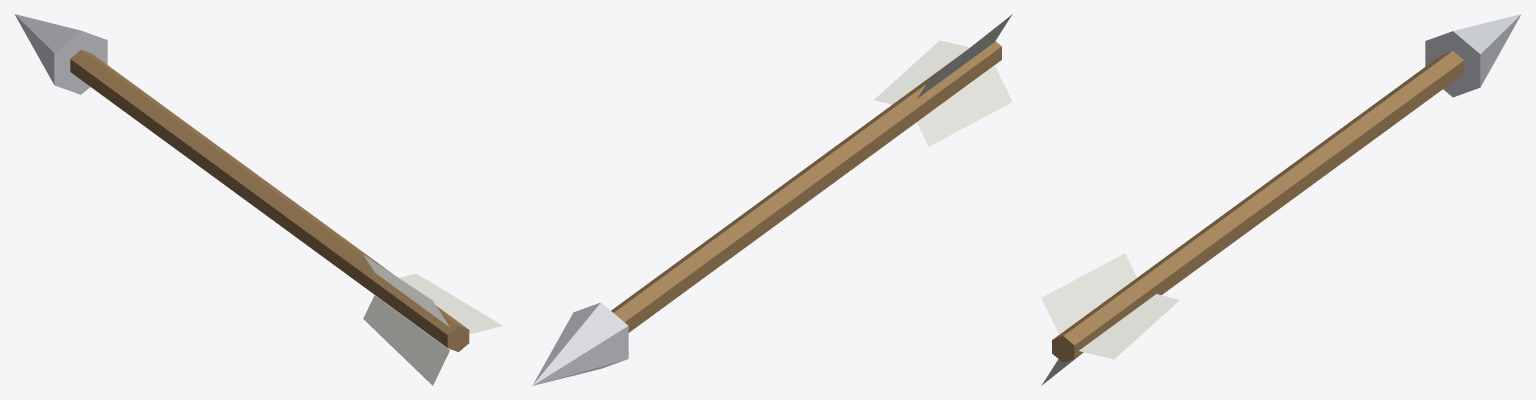
The model's file is munition_carreau.glb.
3 views of the same model, side by side, from view 1: azimuth 30°, elevation 25°; view 2: azimuth 150°, elevation 25°; view 3: azimuth 330°, elevation 25° (orthographic). The views are drawn at different scales.
Visible parts, largest first — view 1: carreau_hampe, carreau_plumes, carreau_pointe; view 2: carreau_hampe, carreau_plumes, carreau_pointe; view 3: carreau_hampe, carreau_plumes, carreau_pointe.
Part boxes in pixels (x1,y1,x2,y2): carreau_hampe: [70, 50, 469, 351]; carreau_plumes: [363, 254, 502, 385]; carreau_pointe: [14, 14, 107, 94]; carreau_hampe: [611, 41, 1001, 332]; carreau_plumes: [874, 14, 1012, 146]; carreau_pointe: [532, 302, 628, 385]; carreau_hampe: [1052, 51, 1463, 362]; carreau_plumes: [1041, 253, 1179, 385]; carreau_pointe: [1425, 14, 1521, 97].
Bounding box in the file's own units: 0.0384 × 0.0424 × 0.4.
